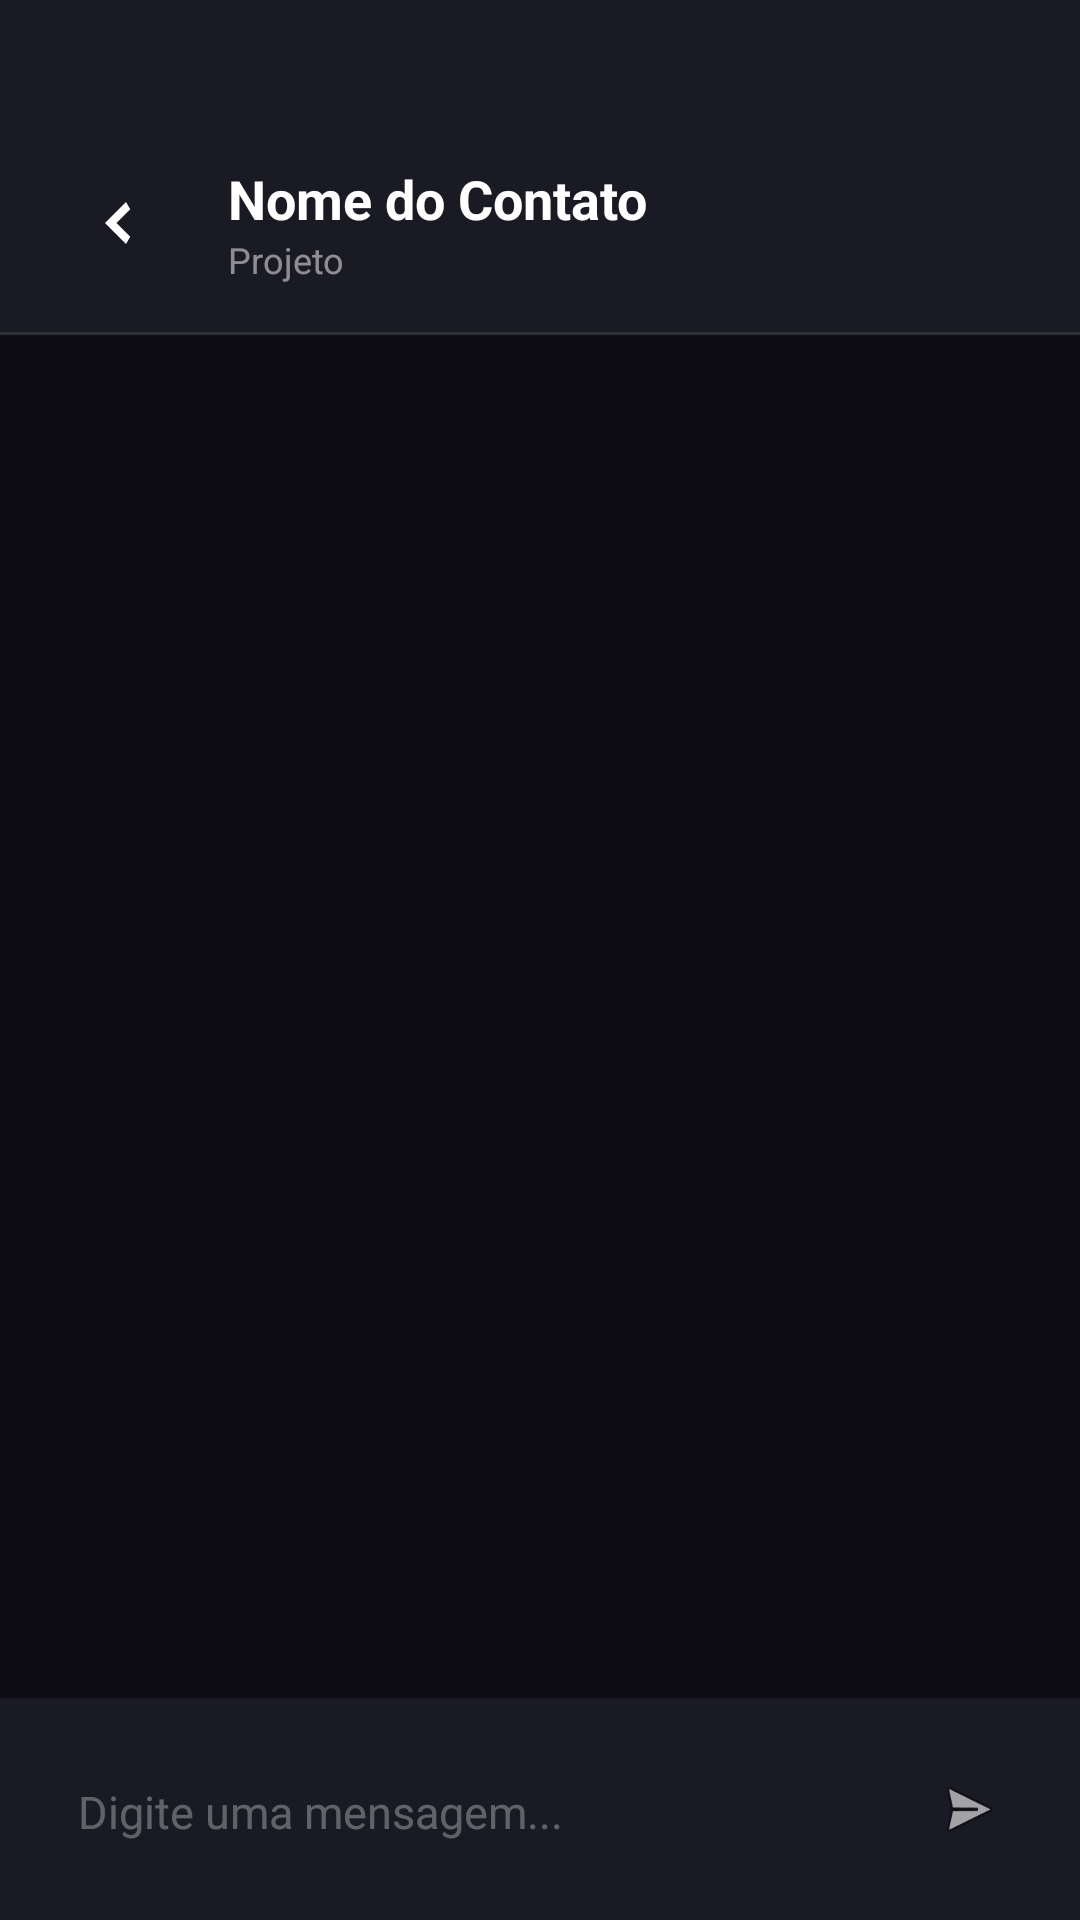

Point at icon controls on the screen. Image size 1080w x 1920h, points as point (x, y).
arrow back: point (117, 223)
send: point (969, 1809)
